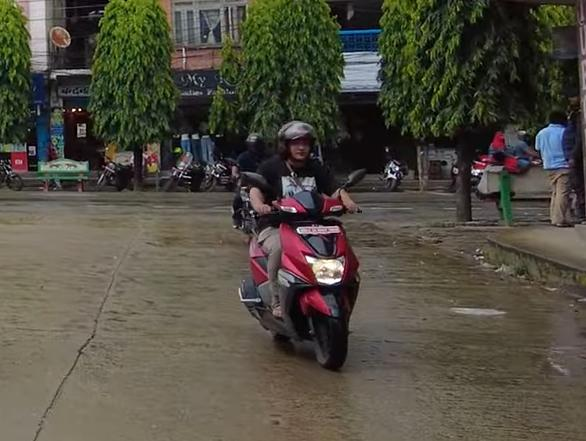scooter: (233, 163, 369, 377)
